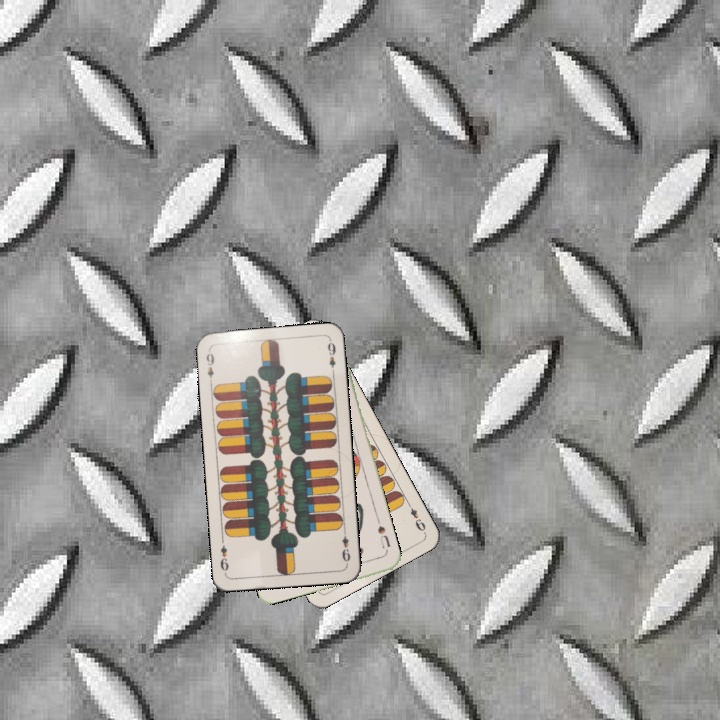E9: (403, 498, 428, 535), (202, 346, 217, 387), (338, 526, 353, 566)
SU: (373, 516, 393, 551)
